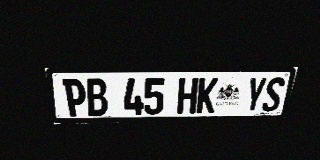4: (123, 78, 144, 115)
5: (144, 78, 165, 115)
B: (85, 79, 108, 116)
H: (177, 78, 199, 114)
K: (196, 78, 219, 113)
P: (62, 79, 88, 116)
S: (261, 77, 286, 112)
Y: (243, 78, 268, 112)
